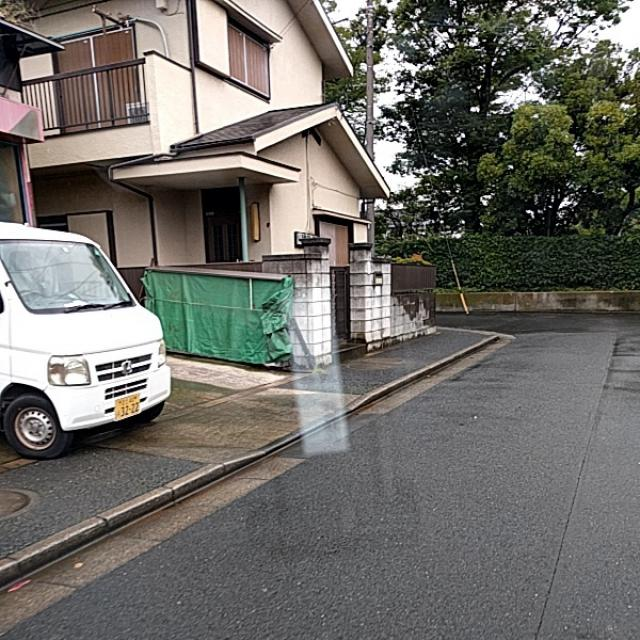pothole: (520, 551, 568, 638)
